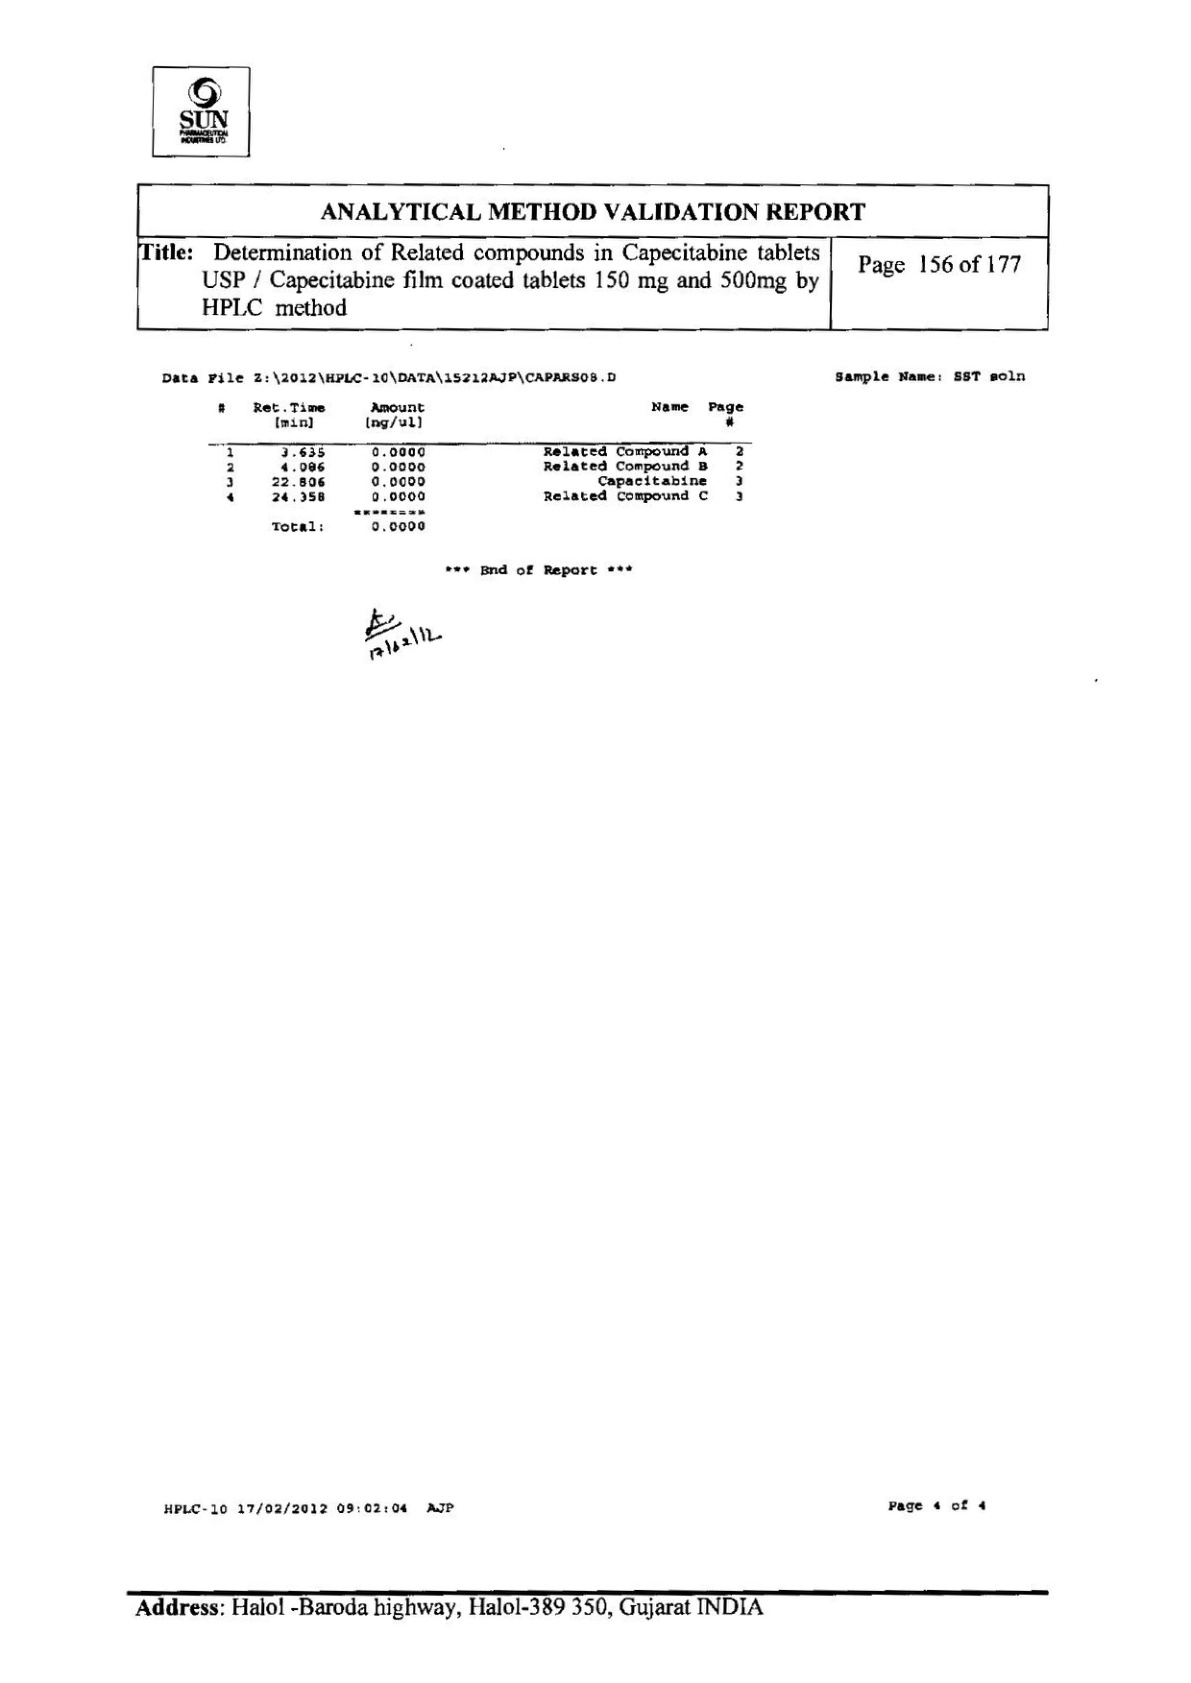partial_lined: (208, 396, 757, 535)
partial_lined_merged_cells: (134, 178, 1052, 334)
